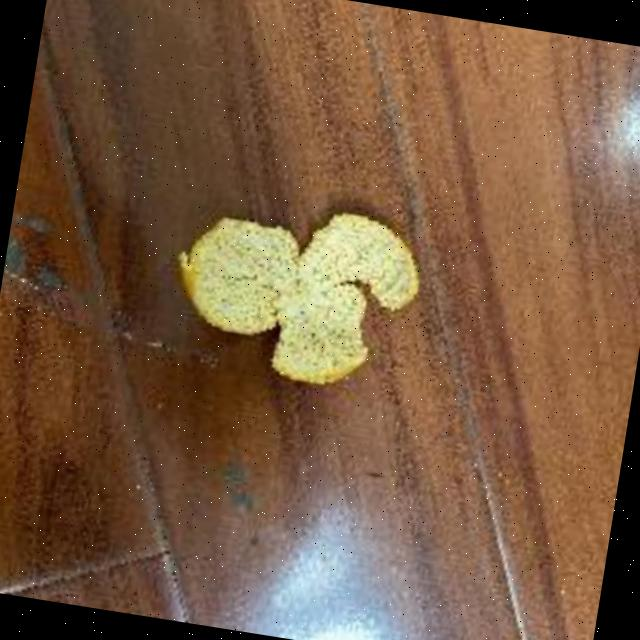orange-peel: (158, 179, 434, 402)
